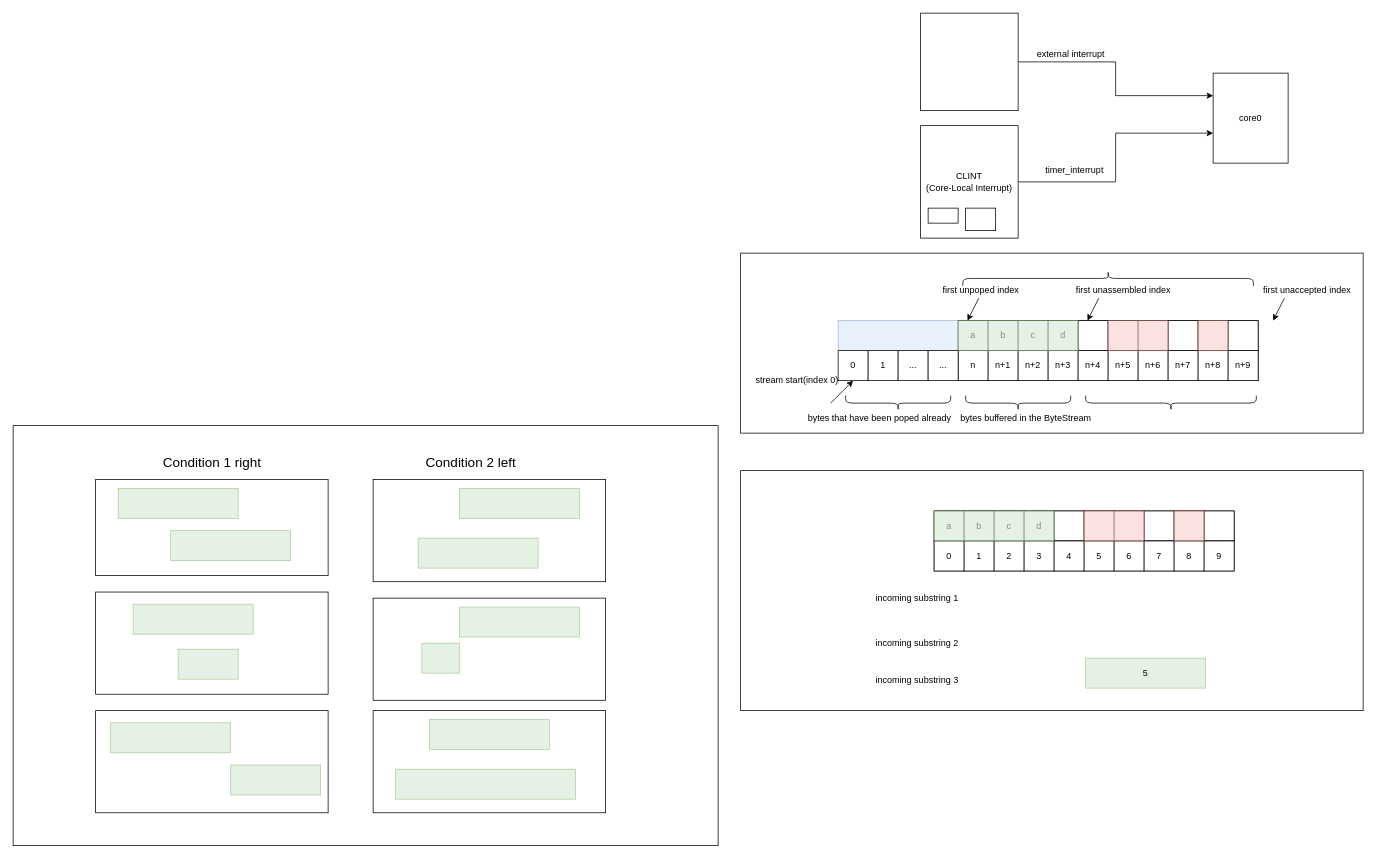
Image size: 1376x859. Some labels were removed from this diagram. The box of each missing label's shape, as (x1, y1, x2, y2) in pixels:
mtime mtimecmp: (965, 207, 996, 231)
PLIC (platform-level Interrupt controller): (920, 12, 1018, 111)
rtc: (927, 207, 958, 223)
width: available capacity: (1085, 395, 1256, 411)
width: capacity: (962, 270, 1253, 286)
